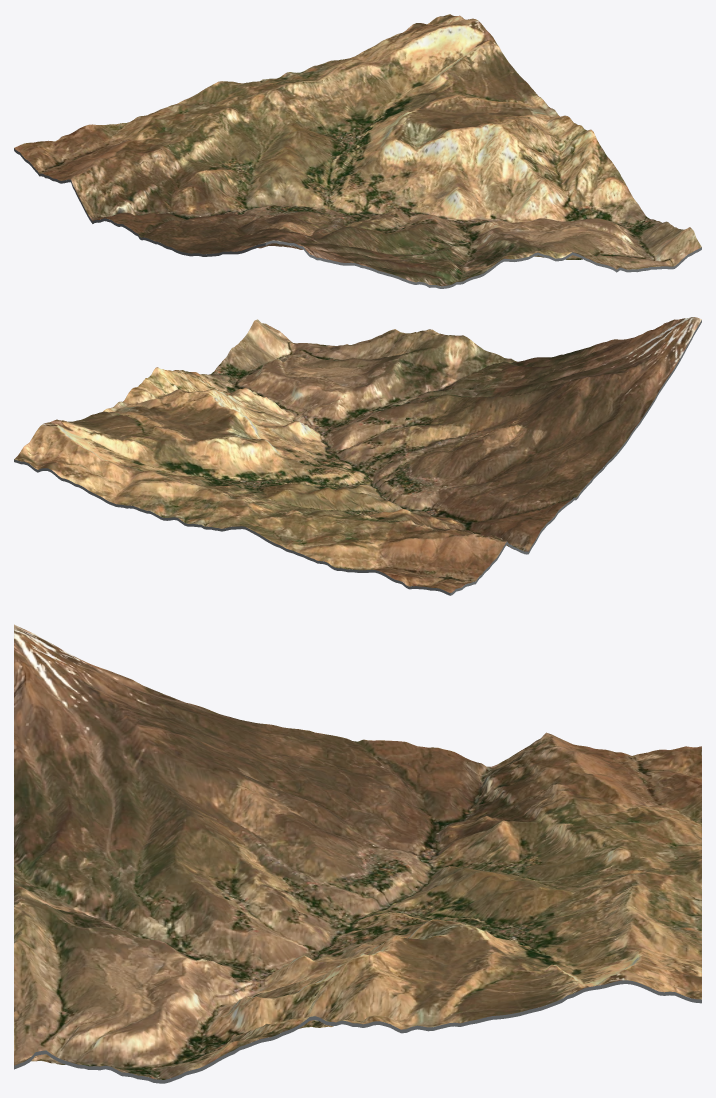
3 views of the same model, one above another, from view 1: azimuth 30°, elevation 25°; view 2: azimuth 150°, elevation 25°; view 3: azimuth 270°, elevation 25° (orthographic). The views are drawn at different scales.
Visible parts, largest first — view 1: terrain, skirt; view 2: terrain, skirt; view 3: terrain, skirt.
Part boxes in pixels (bbox=[...]): terrain: bbox=[14, 14, 701, 286]; skirt: bbox=[14, 148, 701, 288]; terrain: bbox=[14, 317, 701, 592]; skirt: bbox=[14, 320, 701, 595]; terrain: bbox=[14, 624, 701, 1079]; skirt: bbox=[14, 980, 701, 1083].
Size of the model in its own units: 15000 by 4162 by 15000.
1 material, 1 textured.
